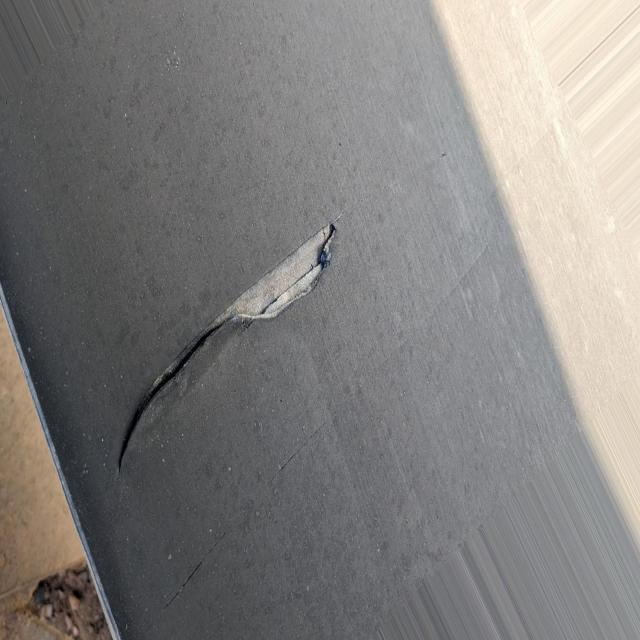Tear: (110, 217, 343, 476)
